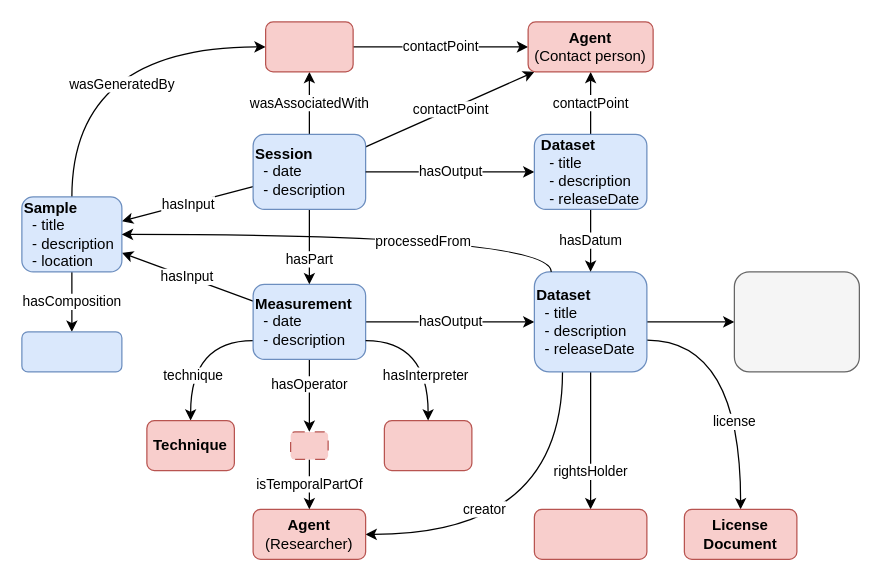
This 881x581 diagram has some shape labels left out. Here are the shapes that lost their labels. From the top down, the centre of each, then its label:
At (x=308, y=46): "Agent (Project)".
At (x=796, y=321): "Distribution - accessURL - downloadURL - mediaType - format".
At (x=71, y=351): "Composition".
At (x=427, y=445): "Instrument".
At (x=590, y=533): "Agent (Organisation)".
